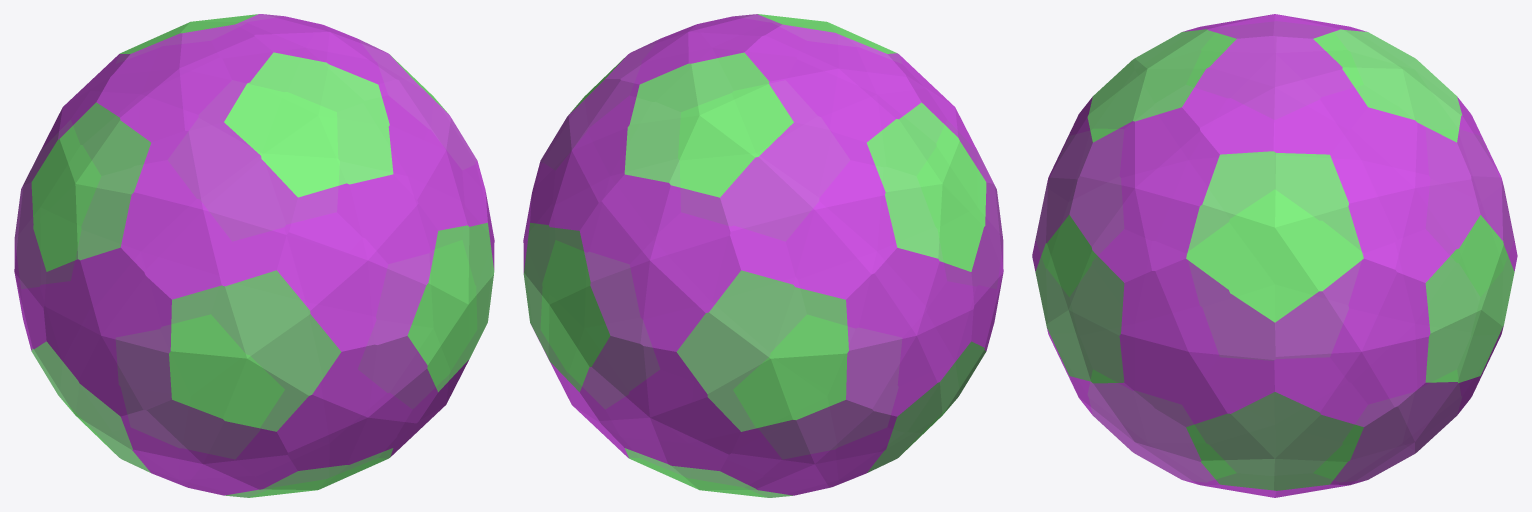
Rendered from BiscribedDualSnubTruncatedIcosahedron.obj.
3 renders of one model, left to right at view 1: azimuth 30°, elevation 25°; view 2: azimuth 150°, elevation 25°; view 3: azimuth 270°, elevation 25°, orthographic.
Bounding box in the file's own units: 2 × 2 × 2.
